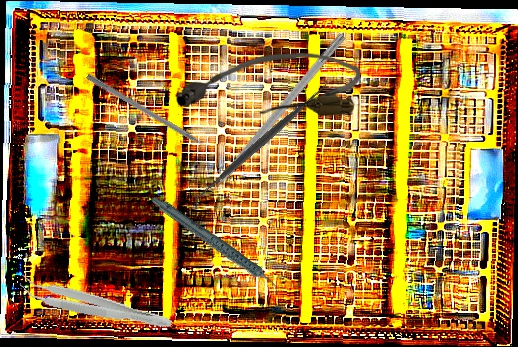Cannula: (175, 51, 361, 119)
Chopper: (188, 25, 347, 208)
Handpiece: (149, 174, 283, 318)
Pusher: (84, 72, 222, 160)
Spatula Surgical: (184, 75, 337, 212)
Tissue Forceps: (16, 272, 176, 335)
